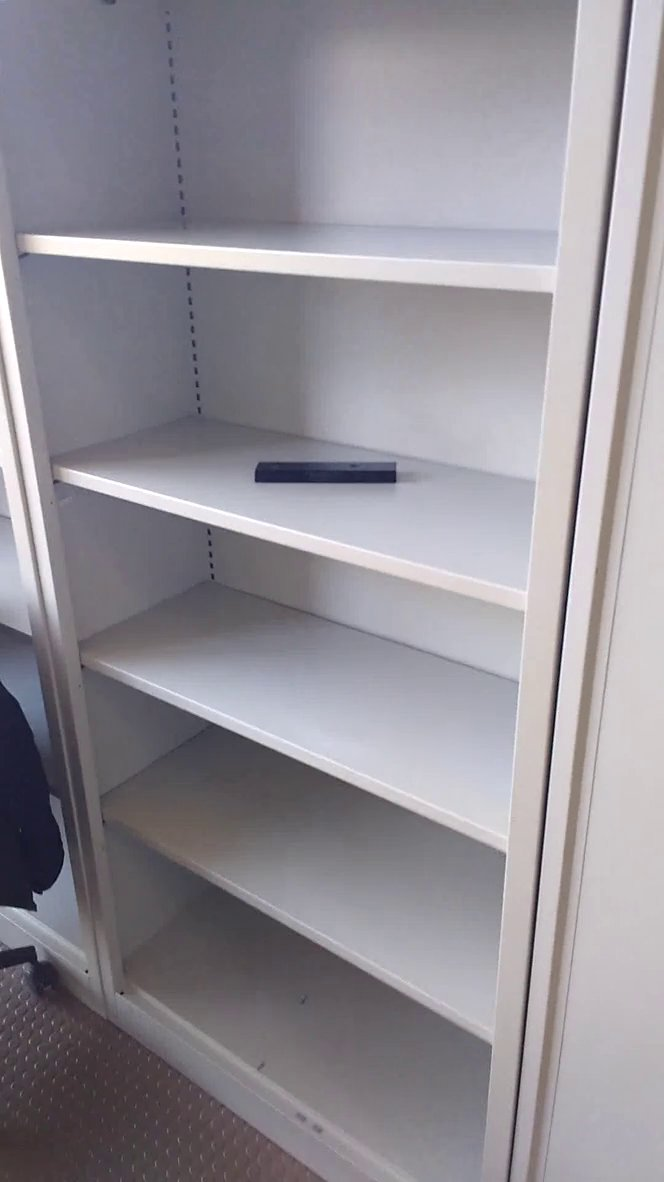remote: (247, 446, 404, 501)
